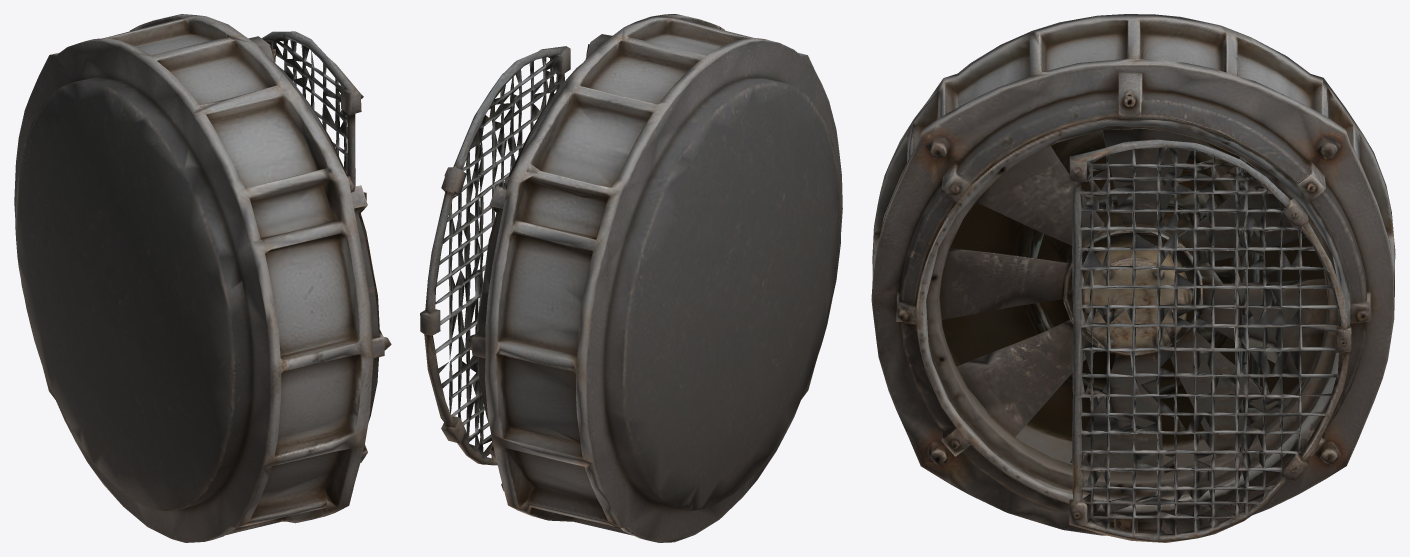
The model's file is PROP-FAN.glb.
3 renders of one model, left to right at view 1: azimuth 30°, elevation 25°; view 2: azimuth 150°, elevation 25°; view 3: azimuth 270°, elevation 25°, orthographic.
Parts seen in each view (by area): view 1: tripo_node_f6b963d0-cdc7-4ea2-939c-b4ed3b437fea; view 2: tripo_node_f6b963d0-cdc7-4ea2-939c-b4ed3b437fea; view 3: tripo_node_f6b963d0-cdc7-4ea2-939c-b4ed3b437fea.
Boxes of the visible parts, box(x1,y1,x2,y2) form: tripo_node_f6b963d0-cdc7-4ea2-939c-b4ed3b437fea: box(14, 14, 391, 542); tripo_node_f6b963d0-cdc7-4ea2-939c-b4ed3b437fea: box(420, 14, 842, 542); tripo_node_f6b963d0-cdc7-4ea2-939c-b4ed3b437fea: box(871, 14, 1395, 542).
Bounding box in the file's own units: 0.5149 × 0.9943 × 1.
Materials: 1 (1 with a texture image).
